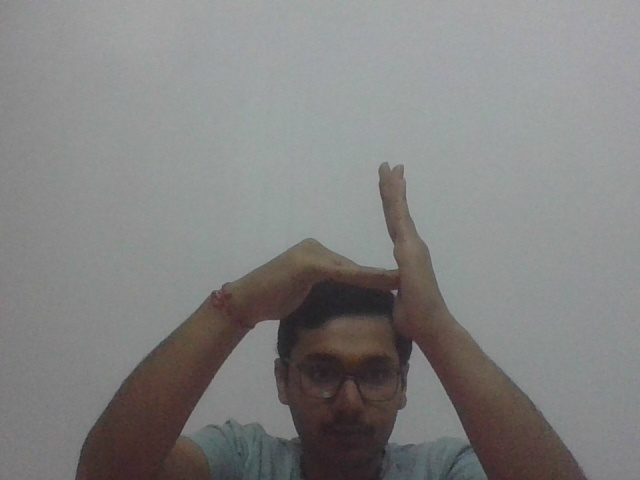Z: (261, 158, 459, 343)
